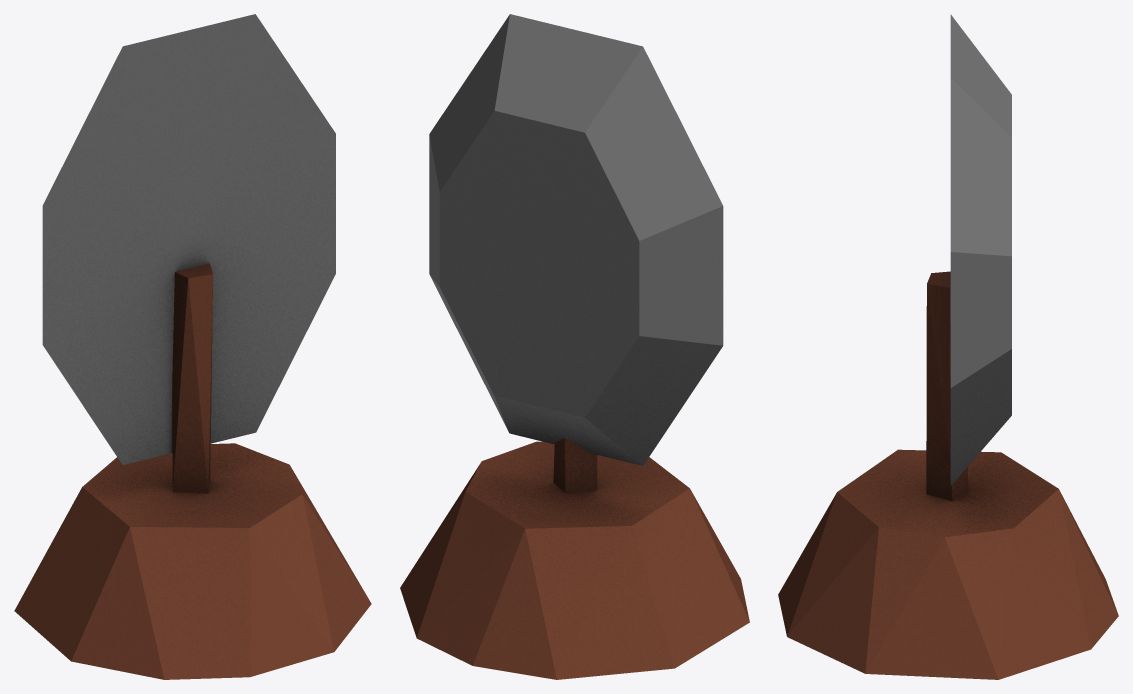
Rendered from Mirror MiniGame.glb.
3 views of the same model, side by side, from view 1: azimuth 30°, elevation 25°; view 2: azimuth 150°, elevation 25°; view 3: azimuth 270°, elevation 25° (orthographic). The views are drawn at different scales.
Visible parts, largest first — view 1: MirrorMiniGame; view 2: MirrorMiniGame; view 3: MirrorMiniGame.
Boxes of the visible parts, x1,y1,x2,y2 form: MirrorMiniGame: [14, 14, 371, 679]; MirrorMiniGame: [400, 14, 749, 679]; MirrorMiniGame: [778, 14, 1118, 679].
Size of the model in its own units: 1.36 by 2.51 by 1.38.
2 materials, 2 textured.
